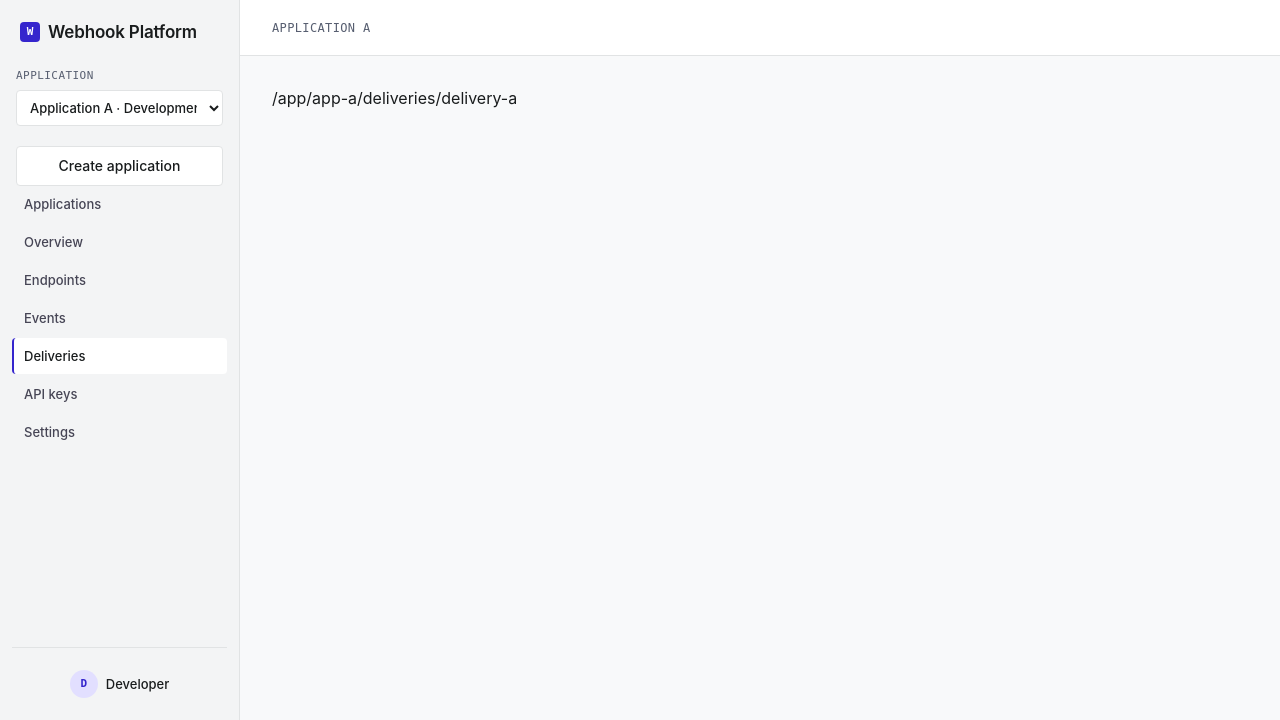
Scenario: switches from a delivery detail to the selected application overview
This screenshot has width=1280, height=720.
Select "Application B · Production" in the dropdown labelled "Application" at (120, 108), box [16,90,223,126]
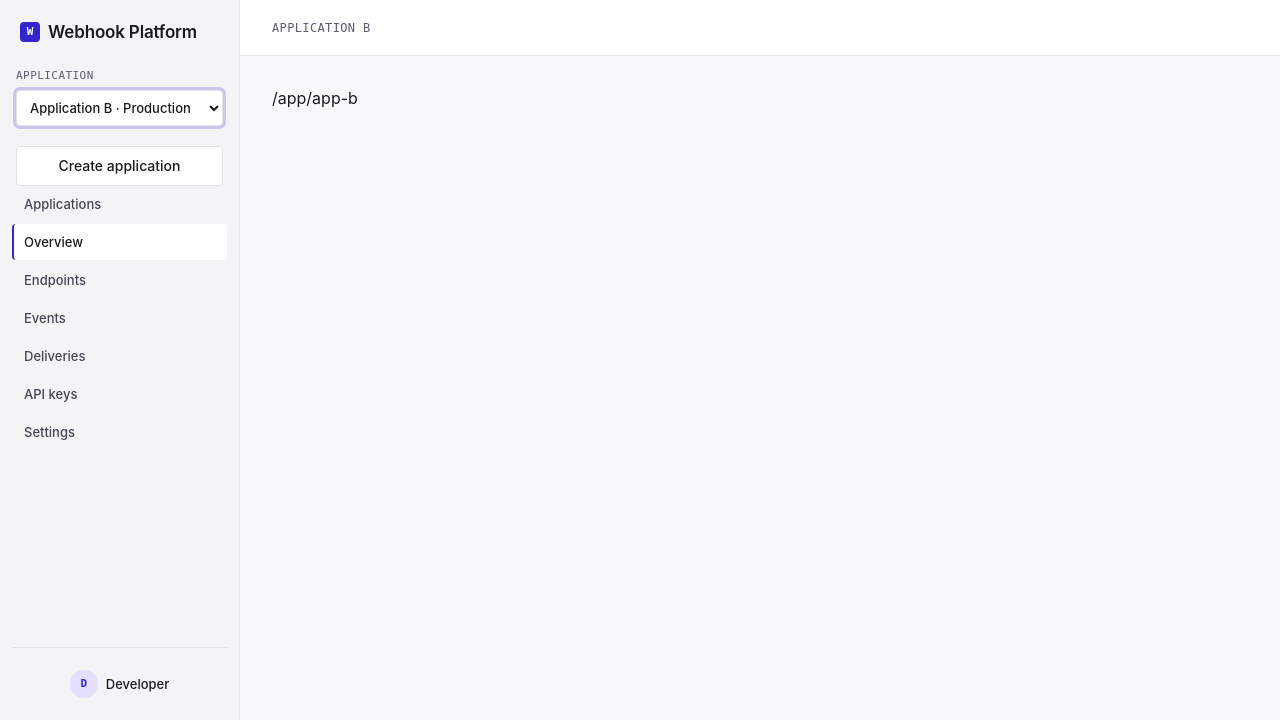
expect the text with test id "location" reads "/app/app-b": met, box [272,88,358,108]
